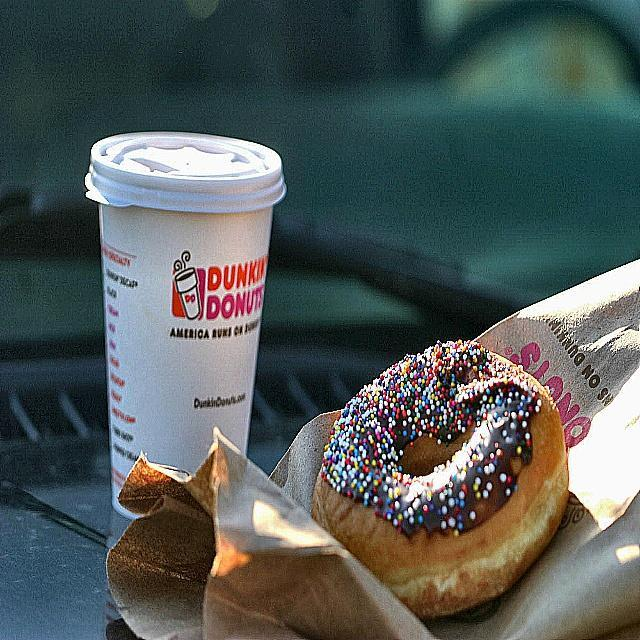paper_cup: (83, 126, 287, 528)
